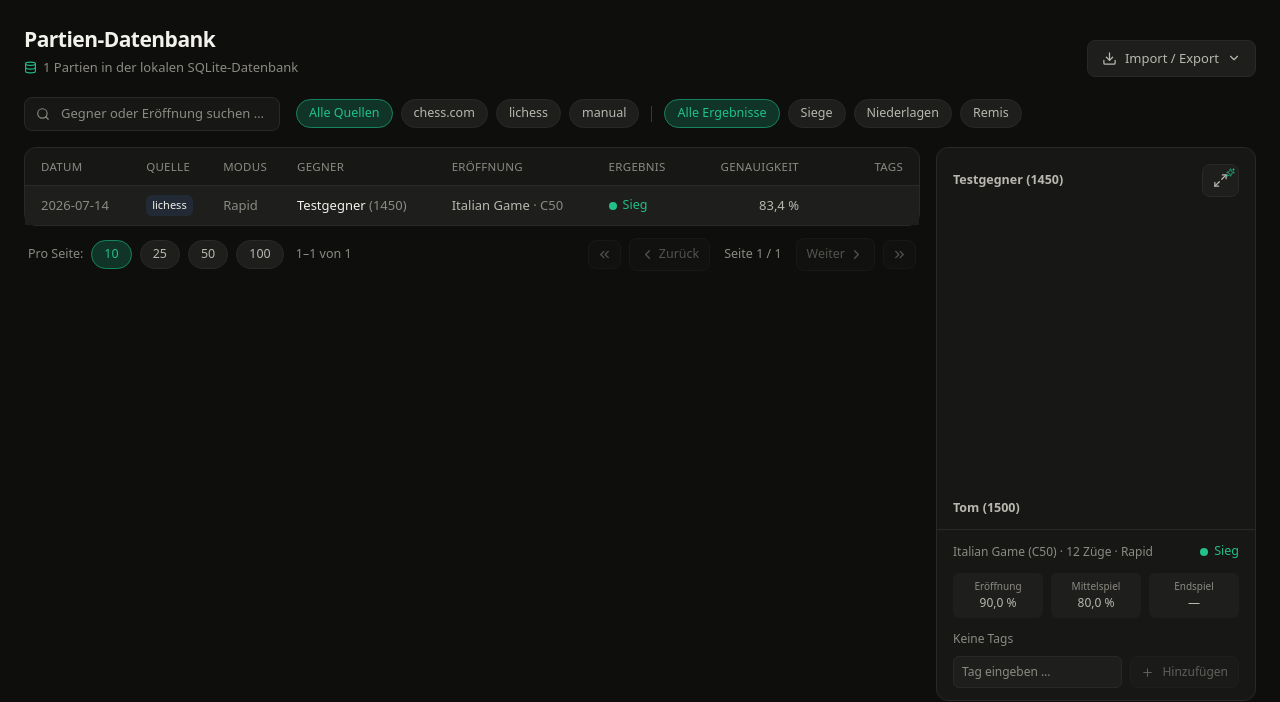
Test: Games page › cancels a running import from the button that shows its progress
This screenshot has width=1280, height=702.
Expected: the button "Testgegner" is shown, [297,196,366,215]
Click the button "Import / Export" at (1171, 58), box [1087,40,1256,77]
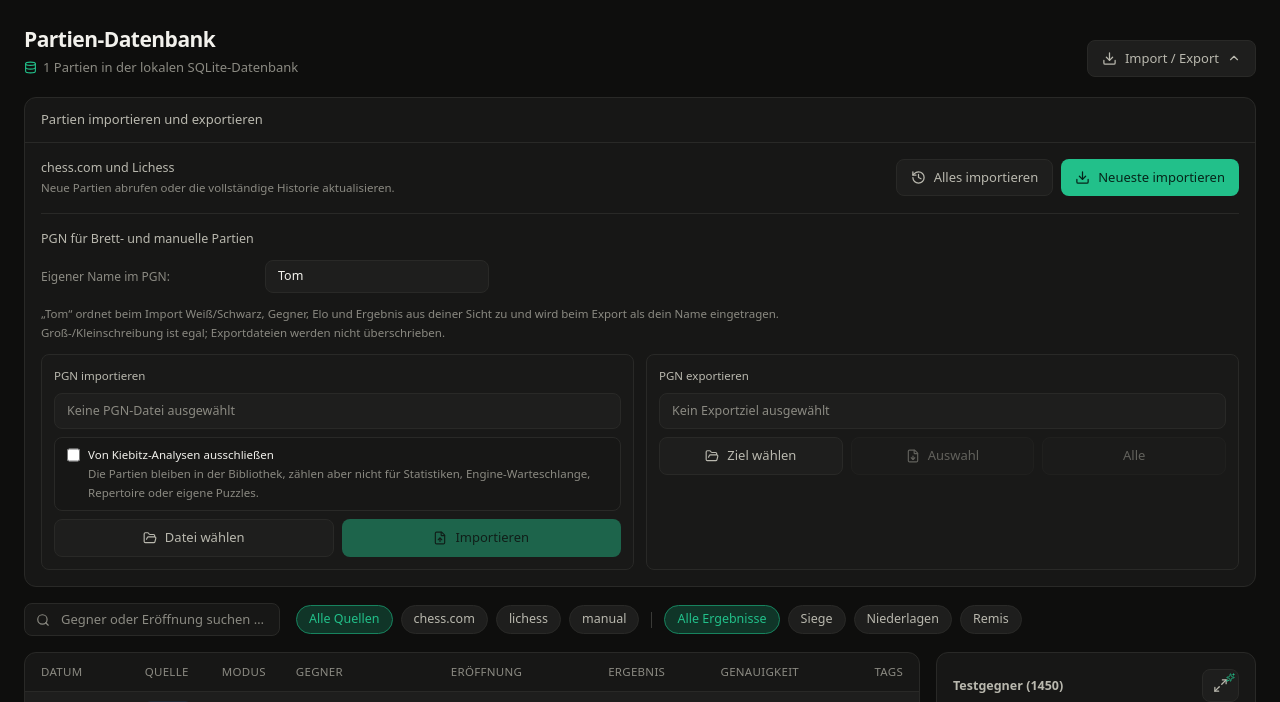
Click the button "Alles importieren" at (974, 178), box [896,159,1053,196]
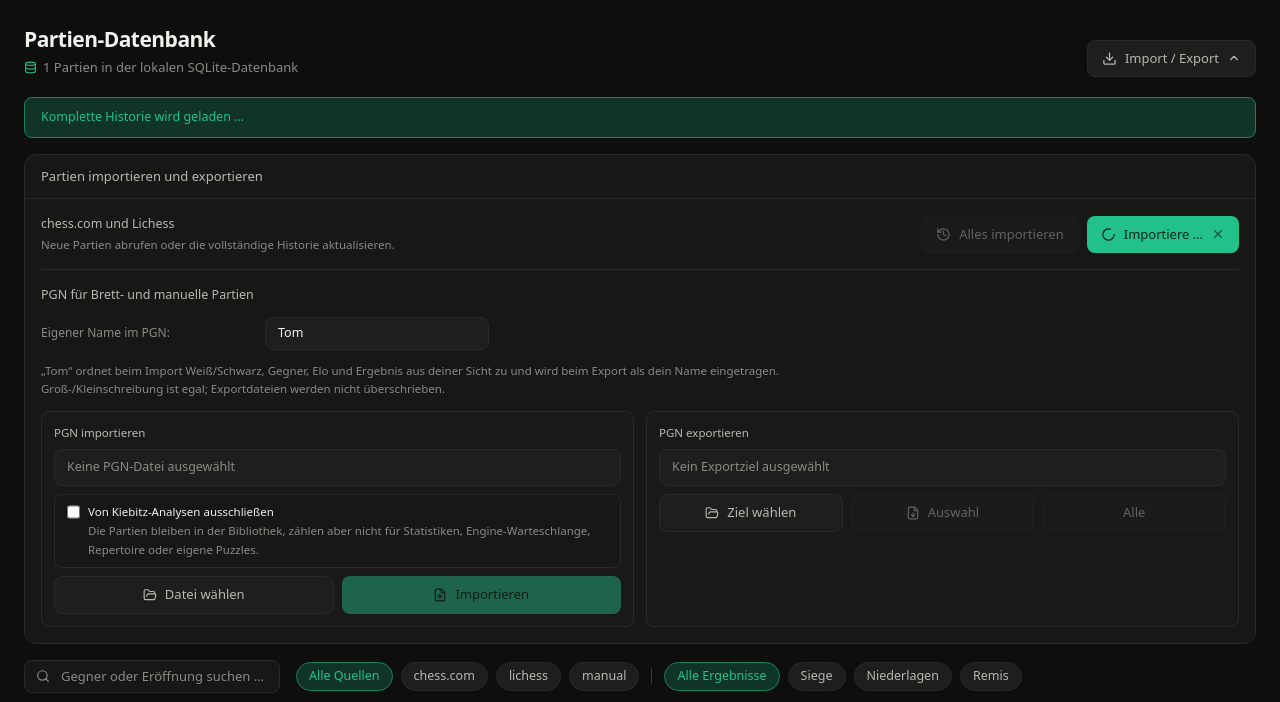
Result: the button with aria-label "Import abbrechen" shows "Importiere"
Result: the button "Alles importieren" is disabled at [921,216,1079,253]
Click the button with aria-label "Import abbrechen" at (1163, 234), box [1087,216,1239,253]
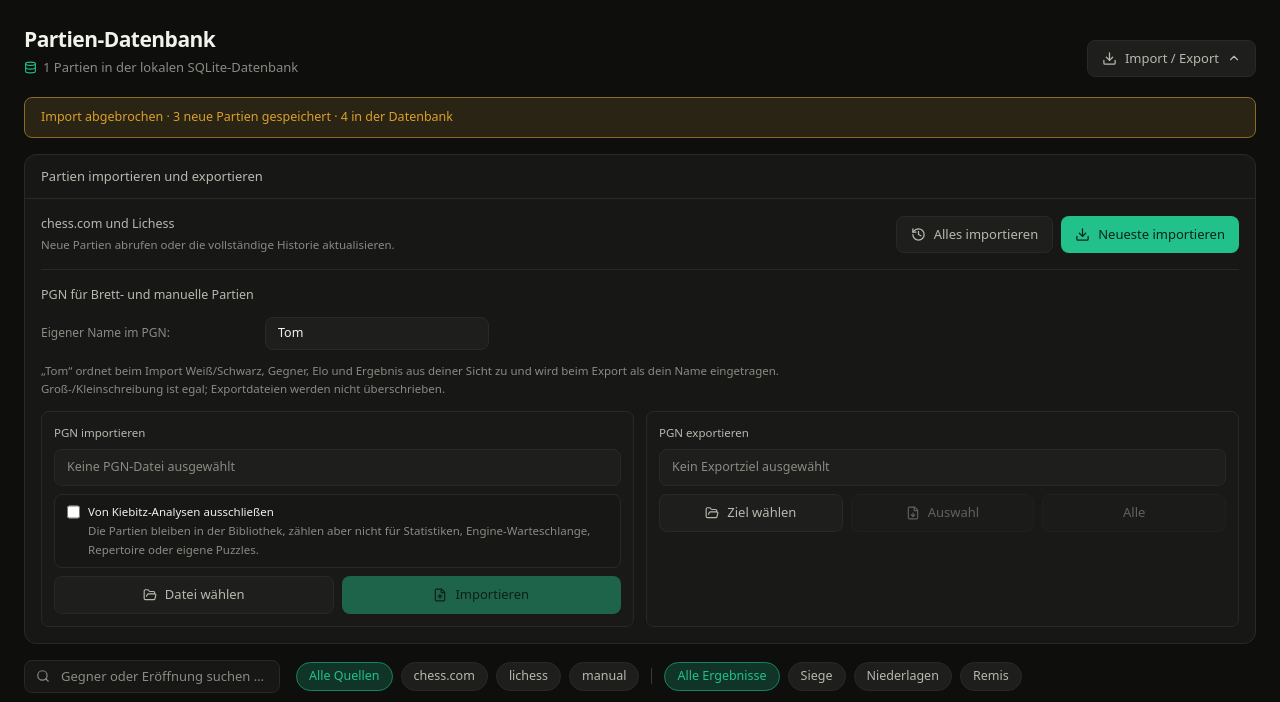
Result: the text "Import abgebrochen · 3 neue Partien" is shown at [41,108,453,125]
